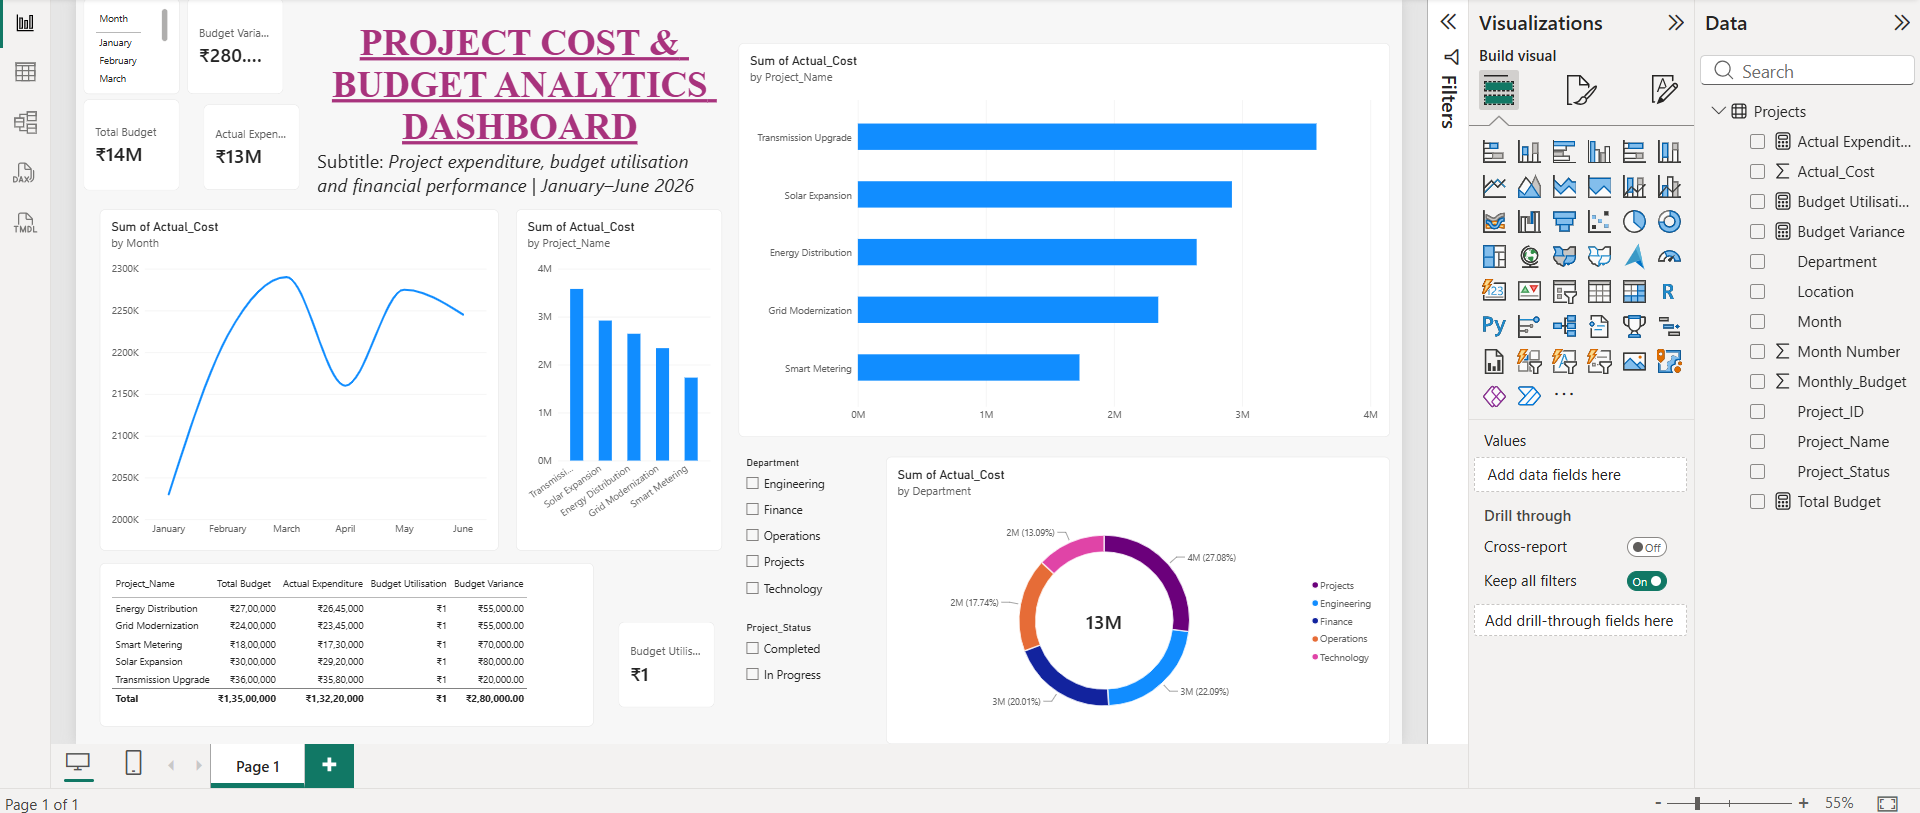

Layout of this report page (visuals, bound fields, positions):
{"tool":"powerbi","page":{"name":"Page 1","canvas":[1920,1080],"ordinal":0},"visuals":[{"type":"tableEx","fields":{"Values":["Projects.Month"]},"box":[10.9,0,139.3,139.3],"z":0},{"type":"cardVisual","fields":{"Data":["Projects.Total Budget"]},"box":[10.9,146.6,139.3,132.1],"z":1000},{"type":"cardVisual","fields":{"Data":["Projects.Actual Expenditure"]},"box":[184.6,153.8,139.3,124.9],"z":2000},{"type":"cardVisual","fields":{"Data":["Projects.Budget Utilisation"]},"box":[785.4,903,139.3,124.9],"z":3000},{"type":"cardVisual","fields":{"Data":["Projects.Budget Variance"]},"box":[161.1,0,139.3,139.3],"z":4000},{"type":"lineChart","fields":{"Category":["Projects.Month"],"Y":["Sum(Projects.Actual_Cost)"]},"box":[34.4,305.8,577.3,494],"z":5000},{"type":"clusteredBarChart","fields":{"Category":["Projects.Project_Name"],"Y":["Sum(Projects.Actual_Cost)"]},"box":[959.1,65.1,942.8,570],"z":6000},{"type":"donutChart","fields":{"Category":["Projects.Department"],"Y":["Sum(Projects.Actual_Cost)"]},"box":[1172.7,664.1,729.3,416.2],"z":7000},{"type":"tableEx","fields":{"Values":["Projects.Project_Name","Projects.Total Budget","Projects.Actual Expenditure","Projects.Budget Utilisation","Projects.Budget Variance"]},"box":[34.4,818,714.8,237.1],"z":8000},{"type":"slicer","fields":{"Values":["Projects.Department"]},"box":[962.7,664.1,419.8,211.7],"z":9000},{"type":"slicer","fields":{"Values":["Projects.Project_Status"]},"box":[962.7,903,209.9,177.3],"z":10000},{"type":"columnChart","fields":{"Category":["Projects.Project_Name"],"Y":["Sum(Projects.Actual_Cost)"]},"box":[637,305.8,298.6,494],"z":11000},{"type":"textbox","box":[349.3,34.4,586.3,271.4],"z":12000}]}

Visuals, with their boxes on the page's 1920x1080 design canvas (x1, y1, x2, y2). These are canvas units, not pixel positions in the 1920x813 screenshot, which may show the page scaled, cropped or inside an application window:
tableEx - Projects.Month: [left=11, top=0, right=150, bottom=139]
cardVisual - Projects.Total Budget: [left=11, top=147, right=150, bottom=279]
cardVisual - Projects.Actual Expenditure: [left=185, top=154, right=324, bottom=279]
cardVisual - Projects.Budget Utilisation: [left=785, top=903, right=925, bottom=1028]
cardVisual - Projects.Budget Variance: [left=161, top=0, right=300, bottom=139]
lineChart - Projects.Month x Sum(Projects.Actual_Cost): [left=34, top=306, right=612, bottom=800]
clusteredBarChart - Projects.Project_Name x Sum(Projects.Actual_Cost): [left=959, top=65, right=1902, bottom=635]
donutChart - Projects.Department x Sum(Projects.Actual_Cost): [left=1173, top=664, right=1902, bottom=1080]
tableEx - Projects.Project_Name x Projects.Total Budget: [left=34, top=818, right=749, bottom=1055]
slicer - Projects.Department: [left=963, top=664, right=1382, bottom=876]
slicer - Projects.Project_Status: [left=963, top=903, right=1173, bottom=1080]
columnChart - Projects.Project_Name x Sum(Projects.Actual_Cost): [left=637, top=306, right=936, bottom=800]
textbox: [left=349, top=34, right=936, bottom=306]
